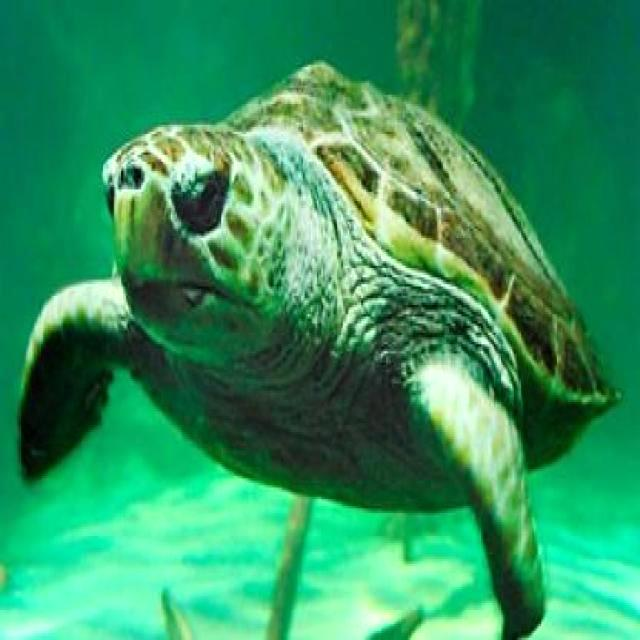Sea turtle: (15, 51, 625, 640)
